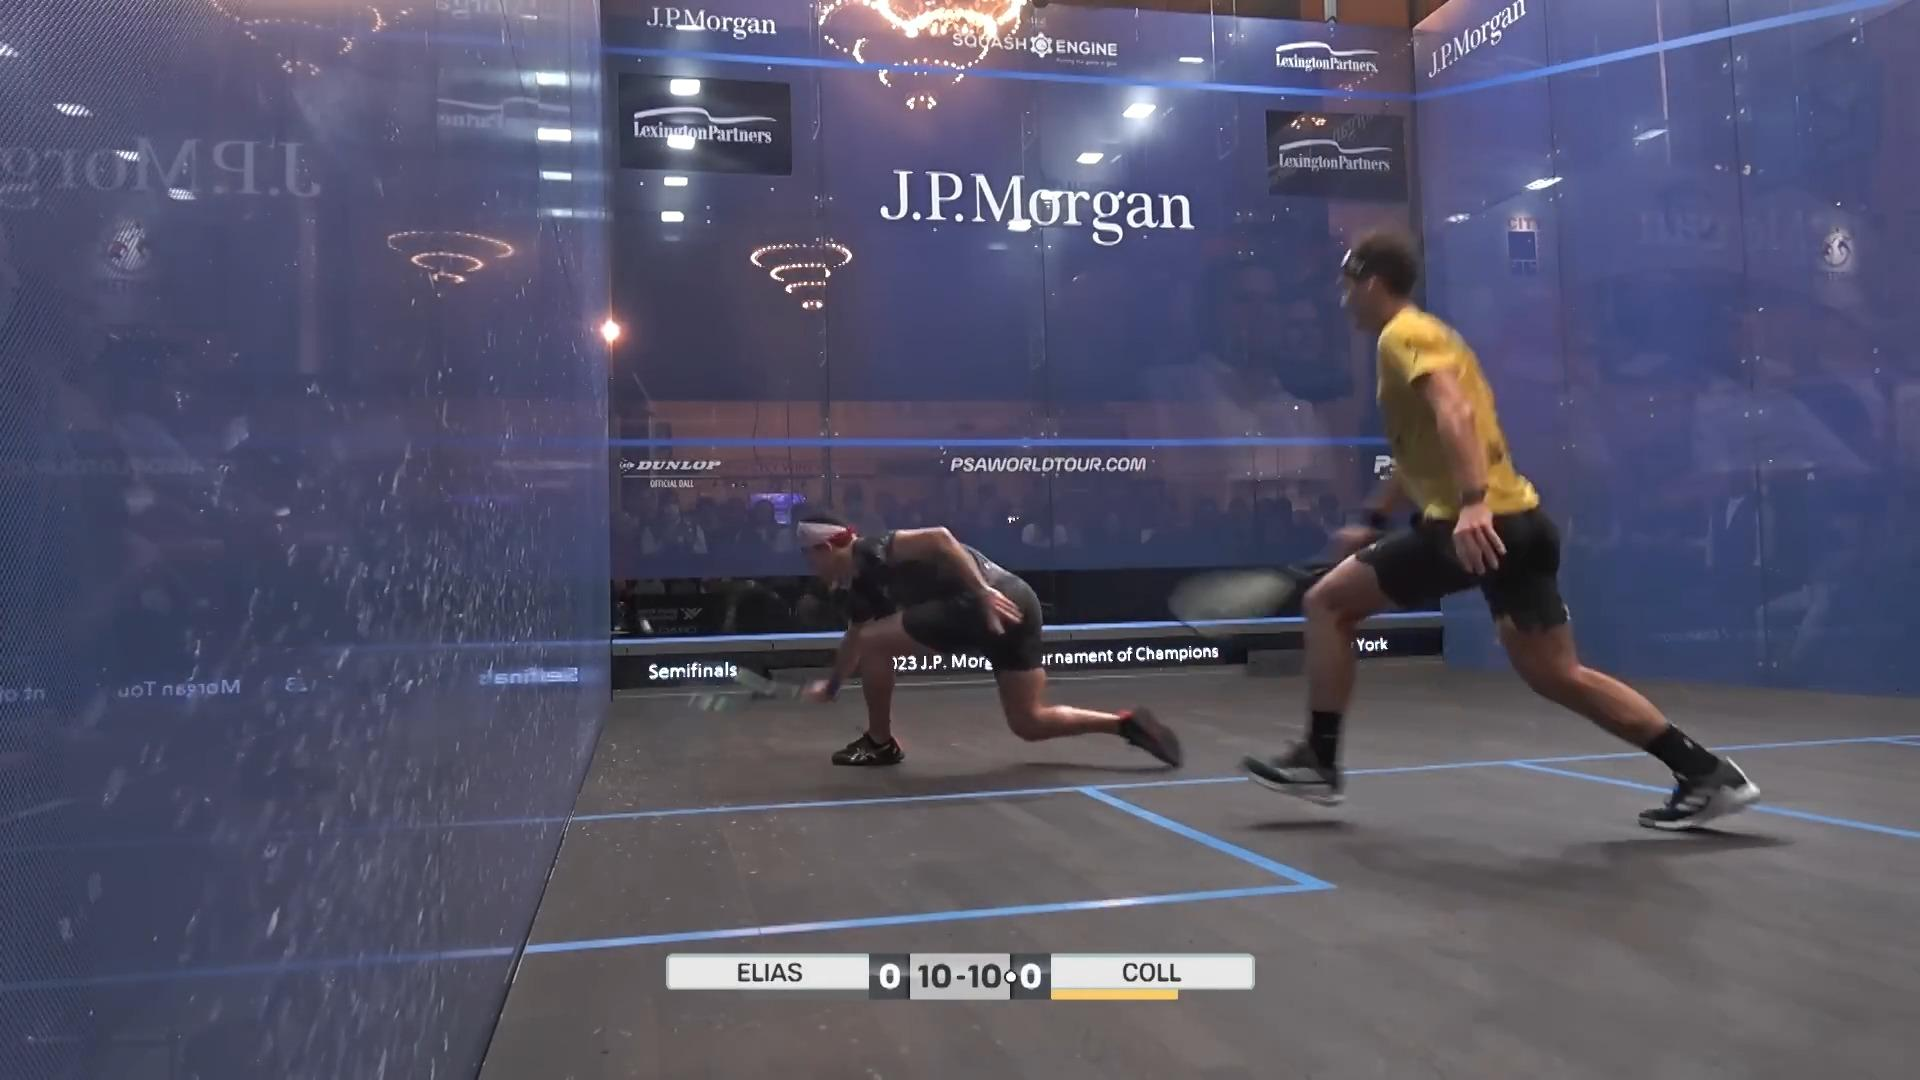Racket: (1159, 550, 1335, 650), (665, 654, 828, 723)
